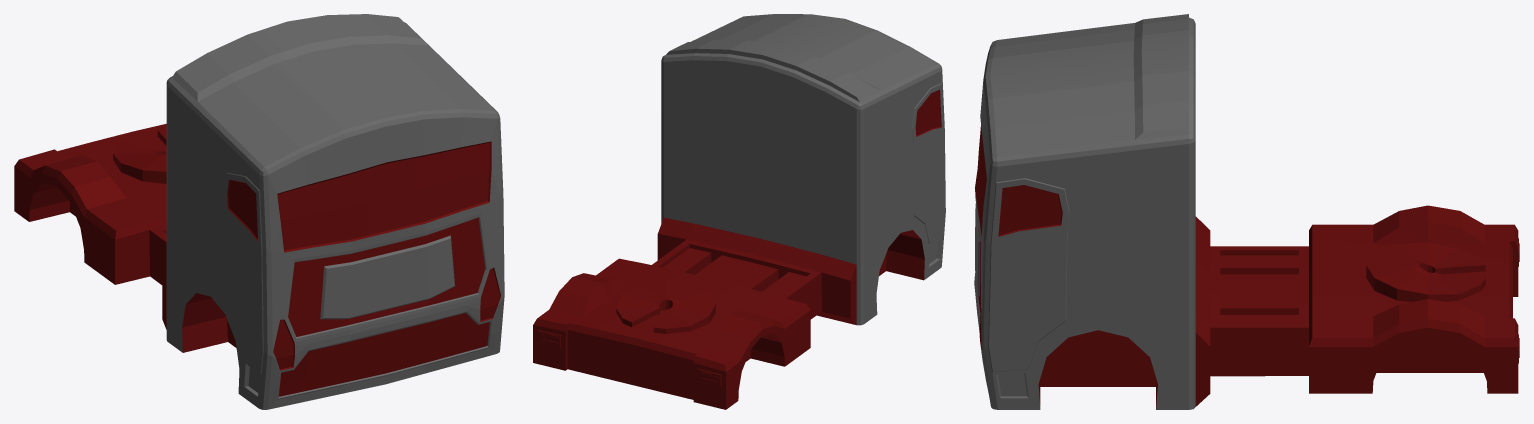
File: Truck.dae
3 views of the same model, side by side, from view 1: azimuth 30°, elevation 25°; view 2: azimuth 150°, elevation 25°; view 3: azimuth 270°, elevation 25° (orthographic). The views are drawn at different scales.
Visible parts, largest first — view 1: Truck; view 2: Truck; view 3: Truck.
Part boxes in pixels (bbox=[...]): Truck: bbox=[14, 14, 504, 409]; Truck: bbox=[533, 14, 945, 409]; Truck: bbox=[974, 14, 1519, 409].
Bounding box in the file's own units: 201 × 231 × 378.
